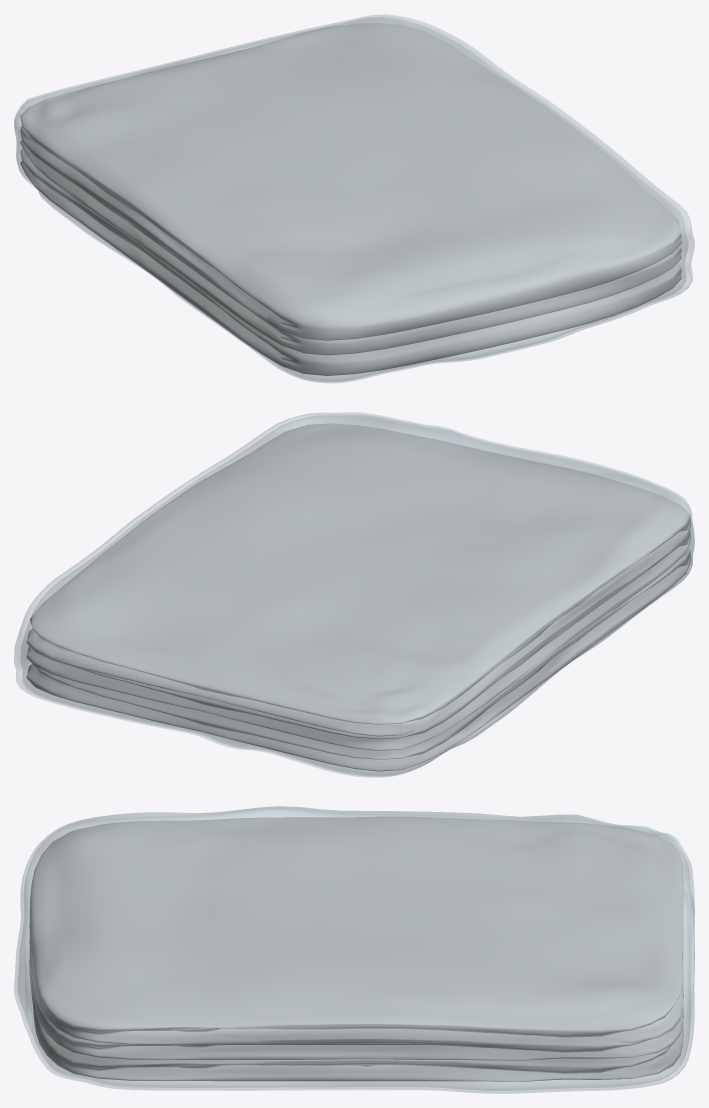
Rendered from APRONS.fbx.
The picture shows the model from 3 angles, top to bottom: view 1: azimuth 30°, elevation 25°; view 2: azimuth 150°, elevation 25°; view 3: azimuth 270°, elevation 25°; orthographic projection. The views are drawn at different scales.
Parts seen in each view (by area): view 1: PLASTIC2, apron4, Apron1, apron3; view 2: PLASTIC2, apron4, Apron1, apron3; view 3: PLASTIC2, apron4, apron3, Apron1.
Boxes of the visible parts, x1,y1,x2,y2 form: PLASTIC2: (14,14,694,383); apron4: (20,23,681,340); Apron1: (20,149,681,375); apron3: (20,130,681,355); PLASTIC2: (14,412,694,777); apron4: (26,423,690,736); Apron1: (26,548,690,771); apron3: (26,530,690,750); PLASTIC2: (14,806,694,1093); apron4: (29,816,683,1044); apron3: (29,939,683,1060); Apron1: (29,955,683,1081).
Bounding box in the file's own units: 0.4046 × 0.076 × 0.536.
